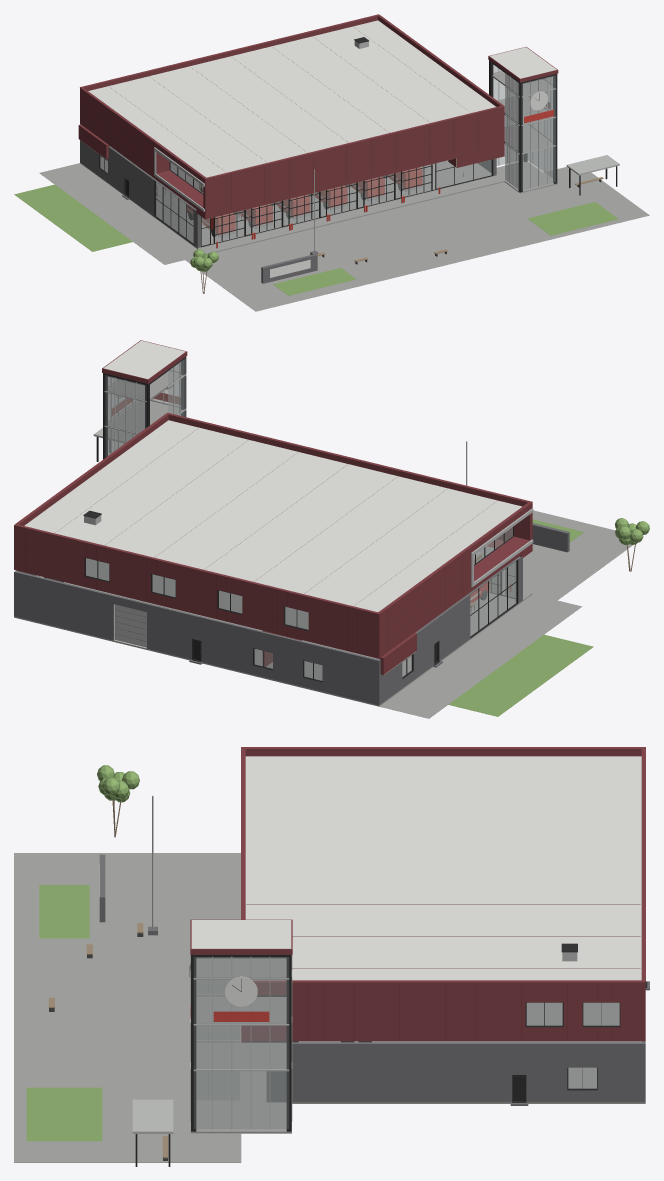
File: clay-cantilever-fire-station-clay-v004.glb
3 views of the same model, one above another, from view 1: azimuth 30°, elevation 25°; view 2: azimuth 150°, elevation 25°; view 3: azimuth 270°, elevation 25° (orthographic). The views are drawn at different scales.
Parts seen in each view (by area): view 1: CLAY_FOUNDATION, CLAY_ROOF, CLAY_WALL, CLAY_GLASS, CLAY_PLANTING, CLAY_TRIM, CLAY_STONE, CLAY_RED, CLAY_PALE, CLAY_FLOOR, CLAY_WHITE, CLAY_JOINT (+1 smaller); view 2: CLAY_ROOF, CLAY_WALL, CLAY_STONE, CLAY_FOUNDATION, CLAY_GLASS, CLAY_PLANTING, CLAY_FLOOR, CLAY_TRIM, CLAY_PALE, CLAY_JOINT; view 3: CLAY_ROOF, CLAY_FOUNDATION, CLAY_WALL, CLAY_STONE, CLAY_GLASS, CLAY_PLANTING, CLAY_FLOOR, CLAY_PALE, CLAY_TRIM, CLAY_JOINT, CLAY_WHITE, CLAY_RED.
Part boxes in pixels (bbox=[...]): CLAY_FOUNDATION: bbox=[39, 157, 649, 311]; CLAY_ROOF: bbox=[88, 20, 556, 177]; CLAY_WALL: bbox=[78, 14, 558, 219]; CLAY_GLASS: bbox=[100, 65, 555, 245]; CLAY_PLANTING: bbox=[14, 184, 618, 295]; CLAY_TRIM: bbox=[98, 37, 617, 247]; CLAY_STONE: bbox=[80, 140, 496, 283]; CLAY_RED: bbox=[187, 102, 553, 248]; CLAY_PALE: bbox=[154, 40, 619, 252]; CLAY_FLOOR: bbox=[170, 72, 553, 193]; CLAY_WHITE: bbox=[187, 91, 547, 277]; CLAY_JOINT: bbox=[110, 27, 499, 209]; CLAY_ROOF: bbox=[24, 340, 522, 611]; CLAY_WALL: bbox=[14, 340, 532, 674]; CLAY_STONE: bbox=[14, 523, 569, 705]; CLAY_FOUNDATION: bbox=[14, 510, 643, 718]; CLAY_GLASS: bbox=[37, 358, 516, 680]; CLAY_PLANTING: bbox=[448, 518, 649, 716]; CLAY_FLOOR: bbox=[86, 371, 495, 629]; CLAY_TRIM: bbox=[39, 357, 518, 682]; CLAY_PALE: bbox=[84, 362, 533, 648]; CLAY_JOINT: bbox=[22, 431, 520, 653]; CLAY_ROOF: bbox=[191, 756, 641, 980]; CLAY_FOUNDATION: bbox=[14, 853, 645, 1162]; CLAY_WALL: bbox=[190, 747, 645, 1042]; CLAY_STONE: bbox=[99, 854, 649, 1105]; CLAY_GLASS: bbox=[194, 957, 619, 1129]; CLAY_PLANTING: bbox=[26, 765, 139, 1141]; CLAY_FLOOR: bbox=[196, 958, 619, 1069]; CLAY_PALE: bbox=[132, 795, 577, 1133]; CLAY_TRIM: bbox=[135, 943, 647, 1166]; CLAY_JOINT: bbox=[246, 904, 640, 1040]; CLAY_WHITE: bbox=[99, 865, 257, 1006]; CLAY_RED: bbox=[190, 1004, 269, 1021].
Bounding box in the file's own units: 68 × 16.11 × 50.34.
